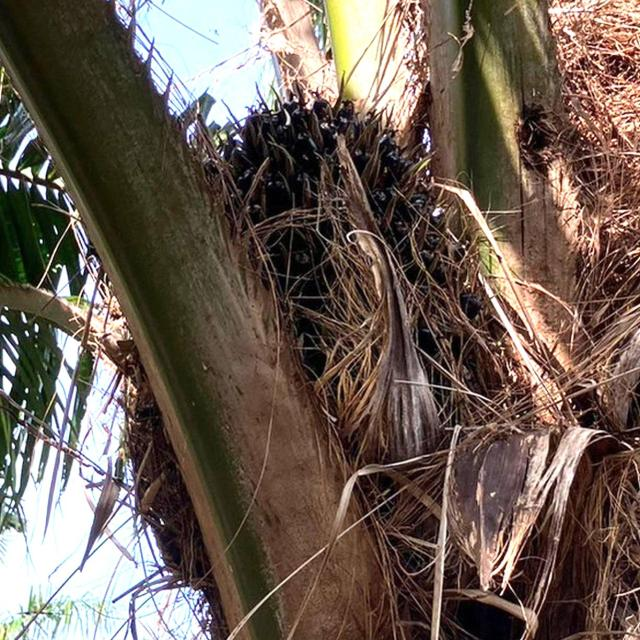unripe: (160, 75, 512, 468)
